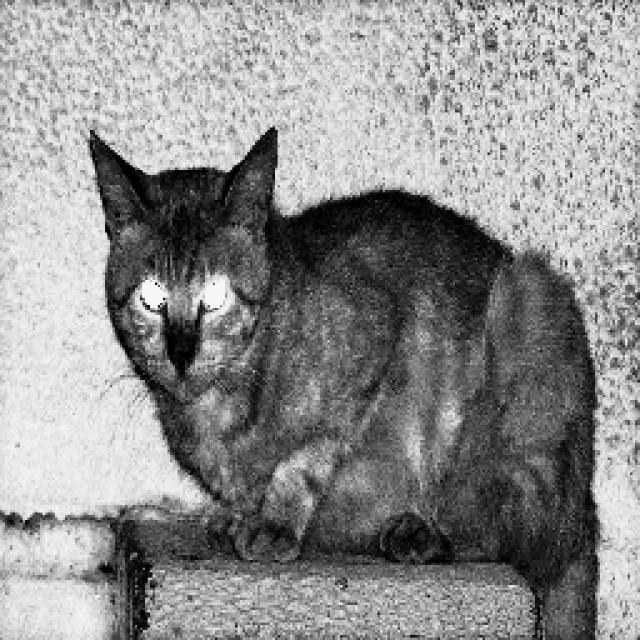cat: (84, 127, 602, 640)
